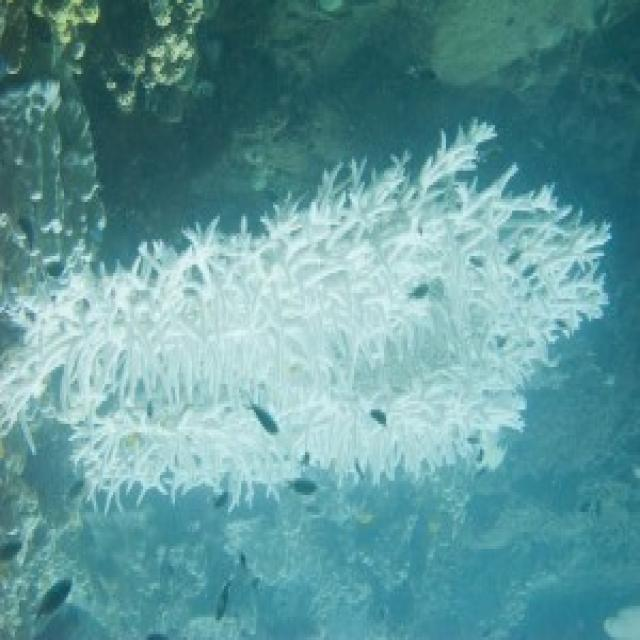Bleached: (1, 116, 618, 522), (1, 80, 110, 278)
Healthy: (1, 4, 203, 118)
